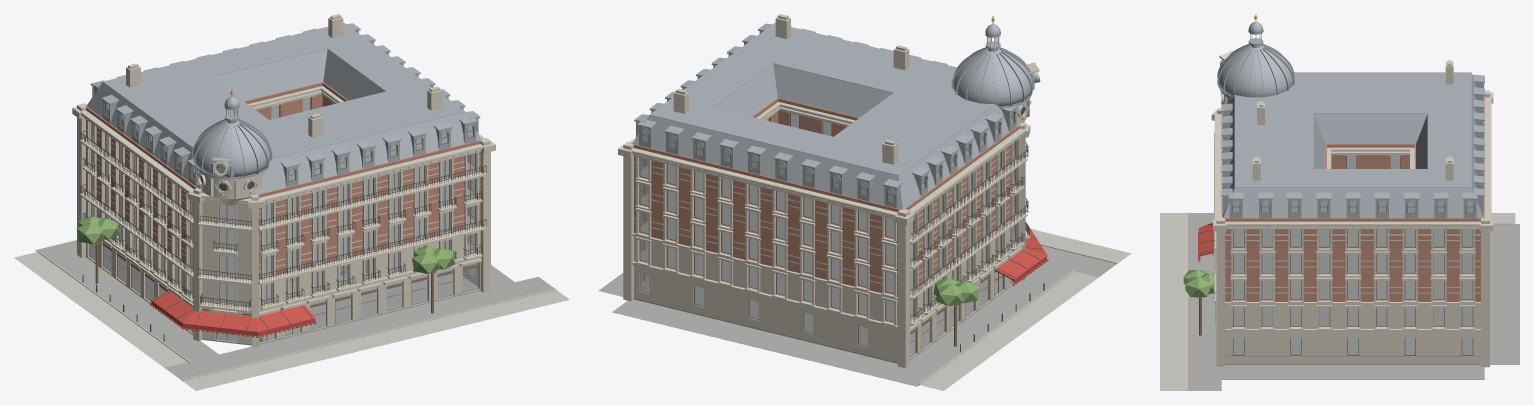
Rendered from clay-zinc-dome-corner-block-clay-v004.glb.
3 renders of one model, left to right at view 1: azimuth 30°, elevation 25°; view 2: azimuth 150°, elevation 25°; view 3: azimuth 270°, elevation 25°, orthographic. The views are drawn at different scales.
Visible parts, largest first — view 1: CLAY_STONE, CLAY_ZINC, CLAY_FOUNDATION, CLAY_GLASS, CLAY_WALL, CLAY_CONCRETE, CLAY_HARDWARE, CLAY_FLOOR, CLAY_TRIM, CLAY_AWNING, CLAY_PLANTING, CLAY_TIMBER; view 2: CLAY_STONE, CLAY_ZINC, CLAY_WALL, CLAY_FOUNDATION, CLAY_GLASS, CLAY_FLOOR, CLAY_CONCRETE, CLAY_TRIM, CLAY_HARDWARE, CLAY_AWNING, CLAY_PLANTING, CLAY_TIMBER; view 3: CLAY_ZINC, CLAY_STONE, CLAY_FOUNDATION, CLAY_WALL, CLAY_GLASS, CLAY_FLOOR, CLAY_CONCRETE, CLAY_TRIM, CLAY_JOINT, CLAY_PLANTING, CLAY_AWNING.
Boxes of the visible parts, <box> form: CLAY_STONE: <box>37,17,556,380</box>; CLAY_ZINC: <box>86,22,481,195</box>; CLAY_FOUNDATION: <box>35,240,554,380</box>; CLAY_GLASS: <box>89,97,478,341</box>; CLAY_WALL: <box>86,82,483,279</box>; CLAY_CONCRETE: <box>14,252,569,390</box>; CLAY_HARDWARE: <box>80,130,486,341</box>; CLAY_FLOOR: <box>92,97,474,303</box>; CLAY_TRIM: <box>91,97,475,304</box>; CLAY_AWNING: <box>150,290,316,337</box>; CLAY_PLANTING: <box>76,216,455,341</box>; CLAY_TIMBER: <box>89,242,479,342</box>; CLAY_STONE: <box>618,17,1117,384</box>; CLAY_ZINC: <box>633,22,1037,209</box>; CLAY_WALL: <box>631,98,1020,296</box>; CLAY_FOUNDATION: <box>598,245,1116,386</box>; CLAY_GLASS: <box>640,112,1015,356</box>; CLAY_FLOOR: <box>640,113,1014,321</box>; CLAY_CONCRETE: <box>920,229,1131,390</box>; CLAY_TRIM: <box>639,112,1016,346</box>; CLAY_HARDWARE: <box>910,107,1044,352</box>; CLAY_AWNING: <box>994,223,1048,285</box>; CLAY_PLANTING: <box>933,278,1012,305</box>; CLAY_TIMBER: <box>910,271,1013,357</box>; CLAY_ZINC: <box>1217,21,1484,218</box>; CLAY_STONE: <box>1186,50,1515,390</box>; CLAY_FOUNDATION: <box>1187,213,1519,390</box>; CLAY_WALL: <box>1221,96,1484,301</box>; CLAY_GLASS: <box>1232,155,1473,354</box>; CLAY_FLOOR: <box>1233,155,1472,326</box>; CLAY_CONCRETE: <box>1160,213,1515,390</box>; CLAY_TRIM: <box>1232,155,1474,355</box>; CLAY_JOINT: <box>1225,158,1480,356</box>; CLAY_PLANTING: <box>1183,269,1213,297</box>; CLAY_AWNING: <box>1198,222,1213,261</box>.
Size of the model in its own units: 48 by 30.1 by 41.
